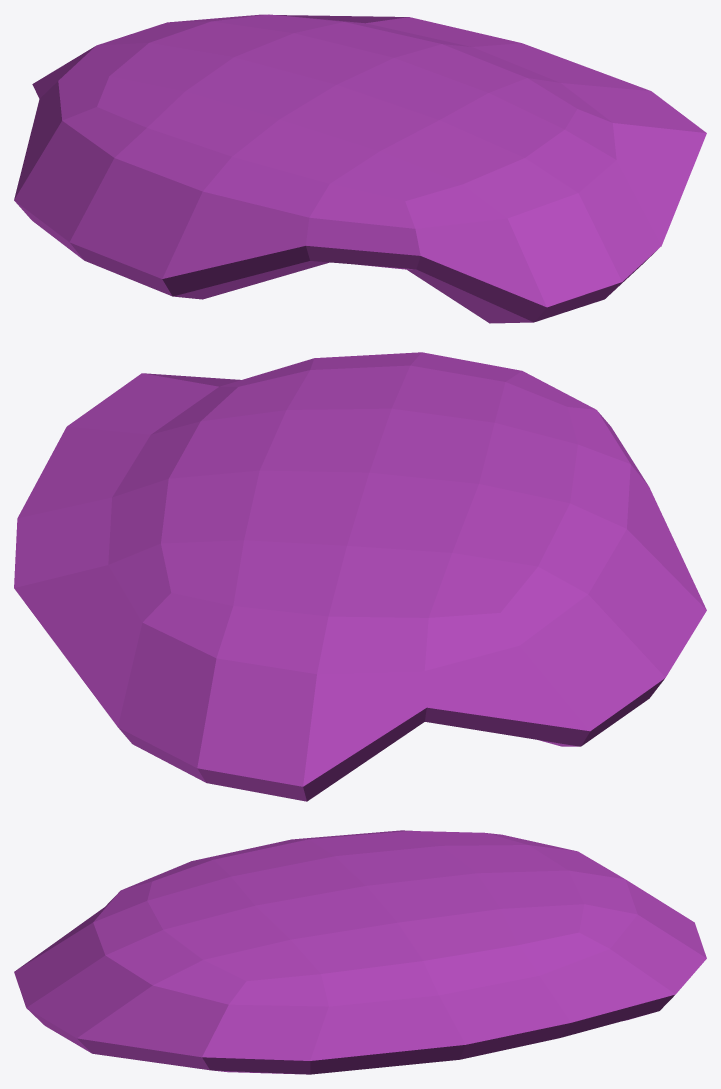
The model's file is portal.glb.
3 renders of one model, top to bottom at view 1: azimuth 30°, elevation 25°; view 2: azimuth 150°, elevation 25°; view 3: azimuth 270°, elevation 25°, orthographic. The views are drawn at different scales.
Visible parts, largest first — view 1: Cube.024; view 2: Cube.024; view 3: Cube.024.
Part boxes in pixels (x1,y1,x2,y2): Cube.024: (14, 14, 706, 323); Cube.024: (14, 352, 706, 801); Cube.024: (14, 830, 706, 1074).
Size of the model in its own units: 0.4638 by 0.115 by 0.563.
